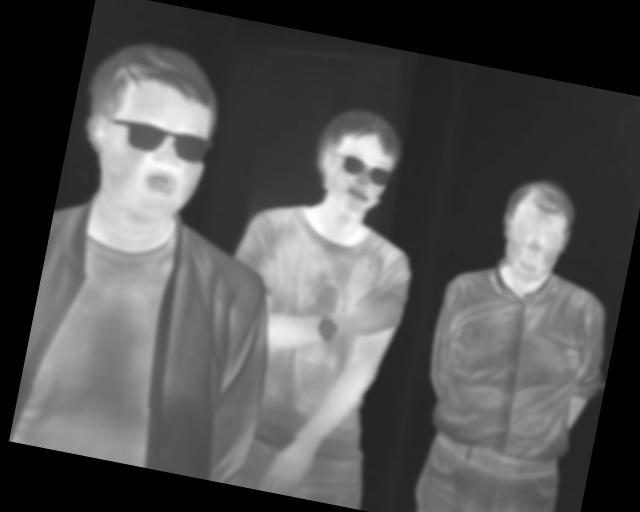face: (67, 31, 234, 231), (305, 99, 409, 221), (491, 173, 580, 287)
